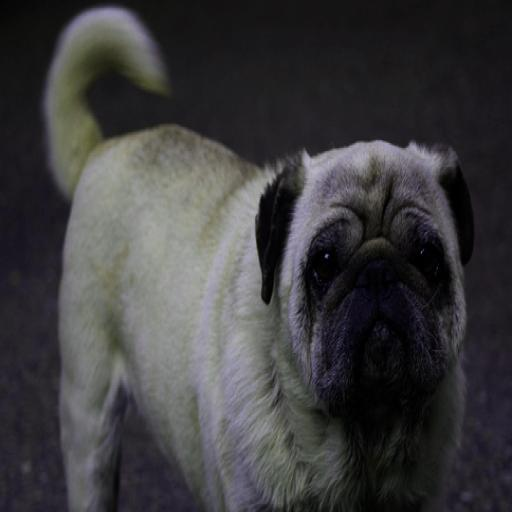dog_face: (250, 144, 488, 413)
